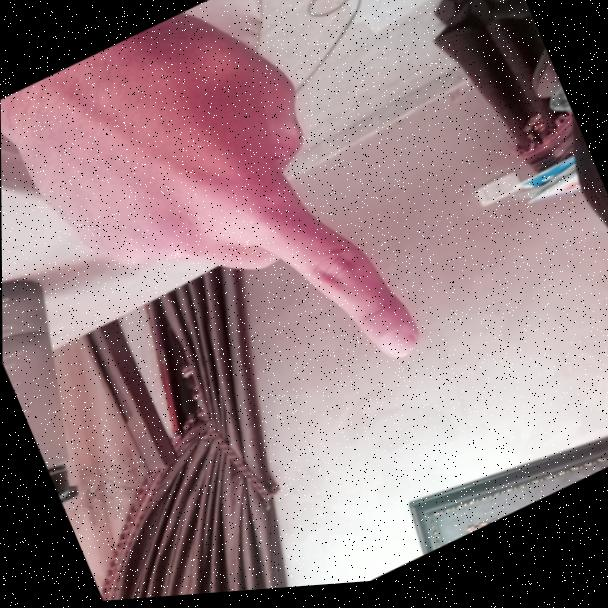one: (19, 0, 438, 480)
